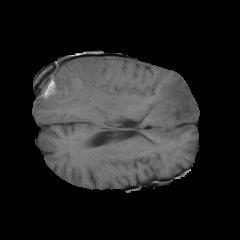glioma: (35, 58, 197, 124)
